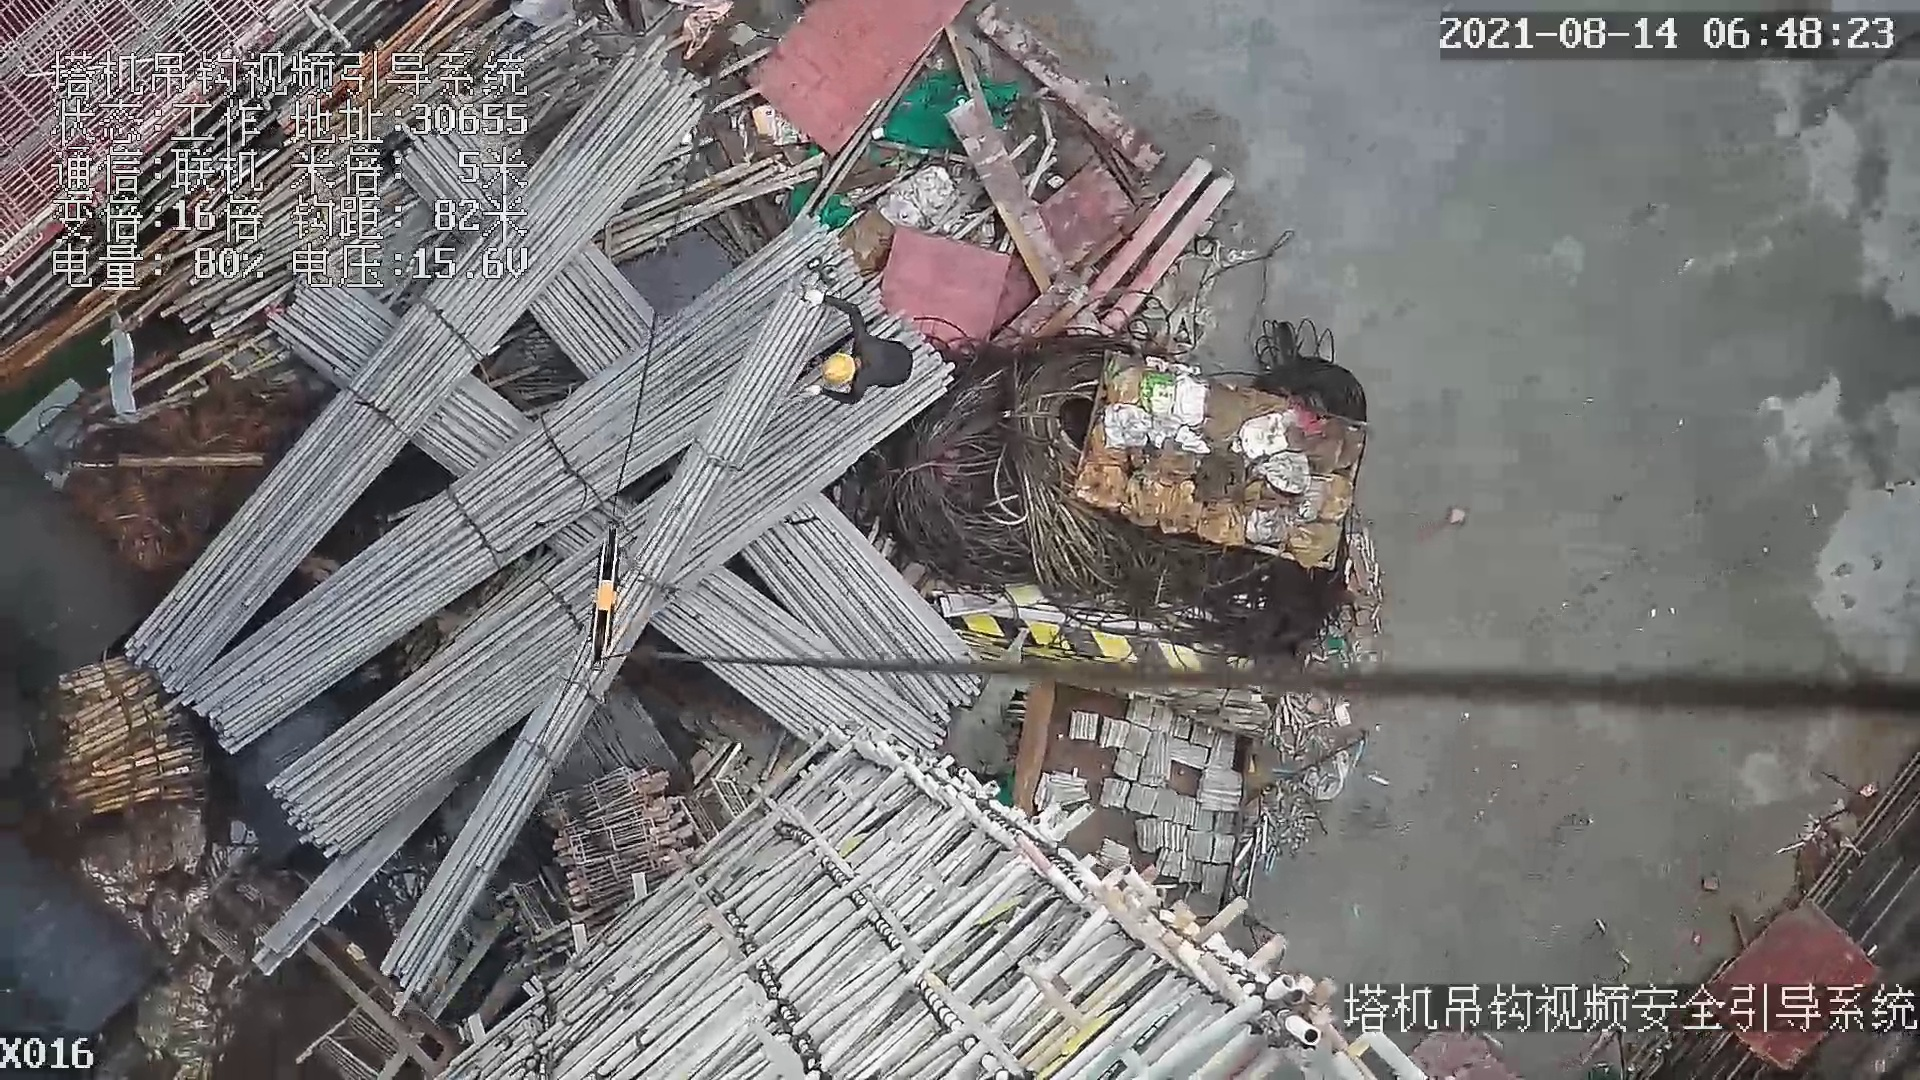board: (745, 6, 956, 158)
helmet: (821, 349, 859, 387)
hook: (578, 531, 628, 660)
person: (790, 287, 920, 413)
scaffold: (48, 664, 206, 824)
